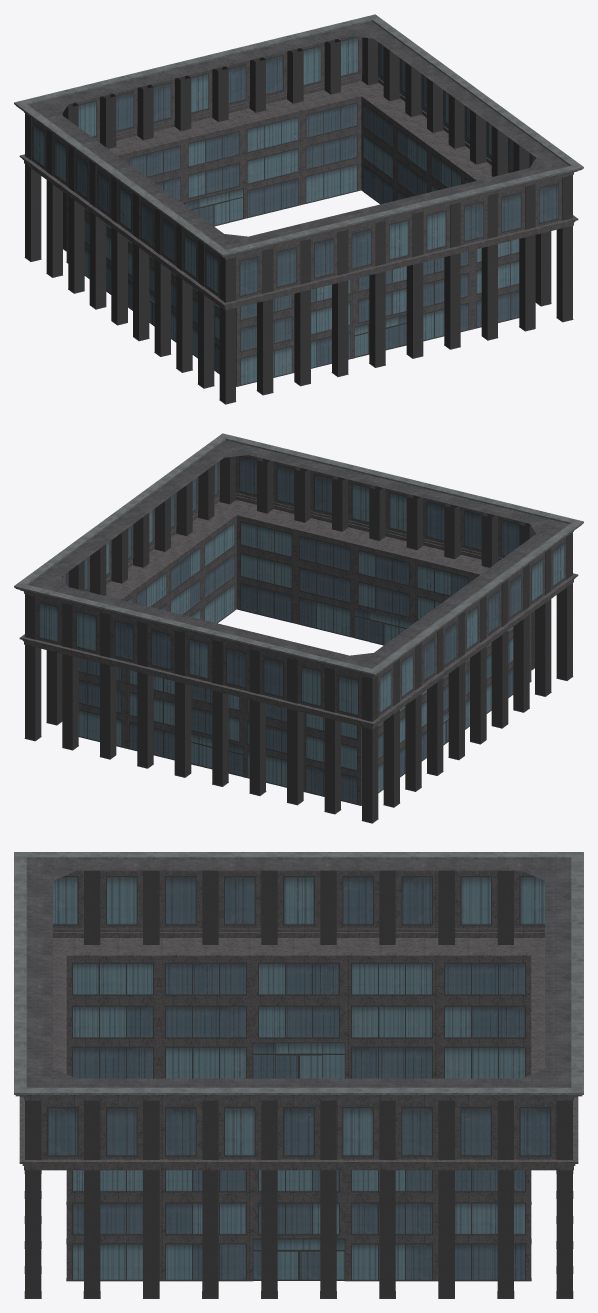
Rendered from jctBld50D_btm_low.fbx.
3 views of the same model, one above another, from view 1: azimuth 30°, elevation 25°; view 2: azimuth 150°, elevation 25°; view 3: azimuth 270°, elevation 25° (orthographic). The views are drawn at different scales.
Visible parts, largest first — view 1: jctBld50D_btm_low; view 2: jctBld50D_btm_low; view 3: jctBld50D_btm_low.
Part boxes in pixels (<box>): jctBld50D_btm_low: <box>14,14,583,404</box>; jctBld50D_btm_low: <box>14,433,583,823</box>; jctBld50D_btm_low: <box>14,852,583,1298</box>.
Size of the model in its own units: 5210 by 2121 by 5210.
